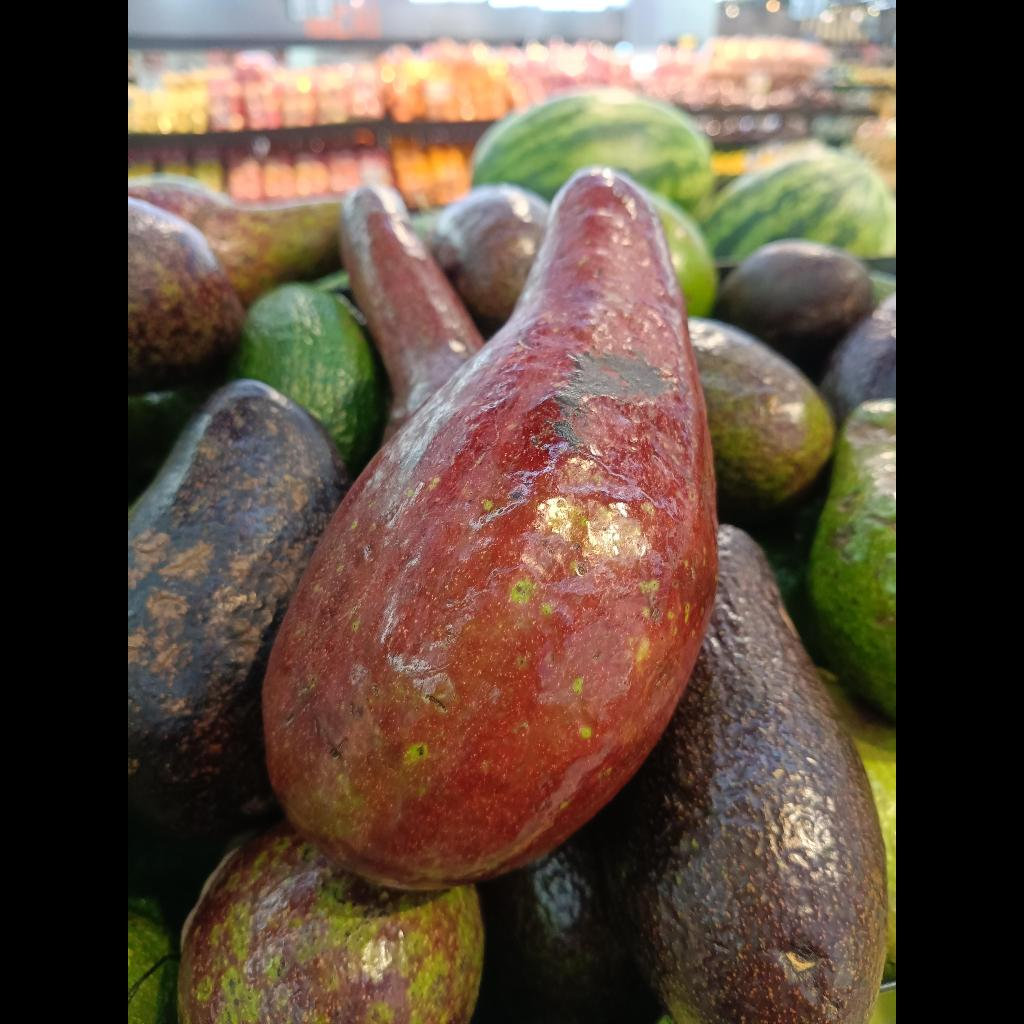antracnosis_fruto: (128, 380, 350, 836), (177, 823, 484, 1024)
